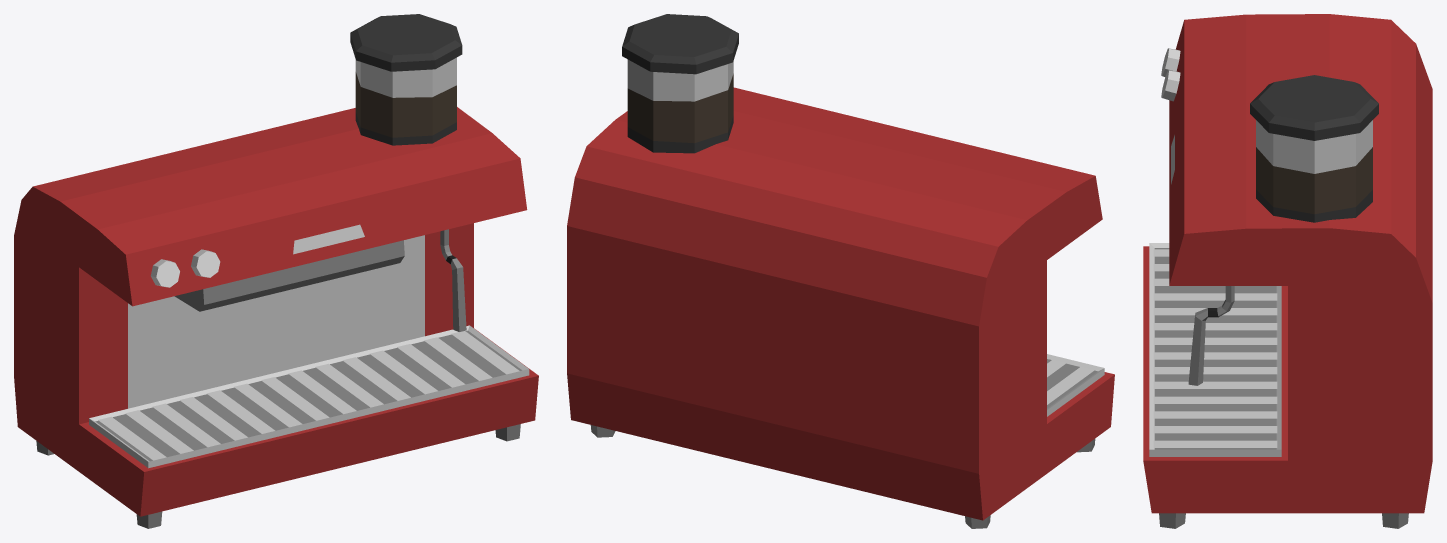
File: coffee_machine.fbx
The picture shows the model from 3 angles, left to right: view 1: azimuth 30°, elevation 25°; view 2: azimuth 150°, elevation 25°; view 3: azimuth 270°, elevation 25°; orthographic projection. The views are drawn at different scales.
Visible parts, largest first — view 1: coffee_machine; view 2: coffee_machine; view 3: coffee_machine.
Boxes of the visible parts, x1,y1,x2,y2 form: coffee_machine: (14, 14, 538, 528); coffee_machine: (567, 14, 1114, 528); coffee_machine: (1143, 14, 1432, 528).
Size of the model in its own units: 51.9 by 45.68 by 29.65.
